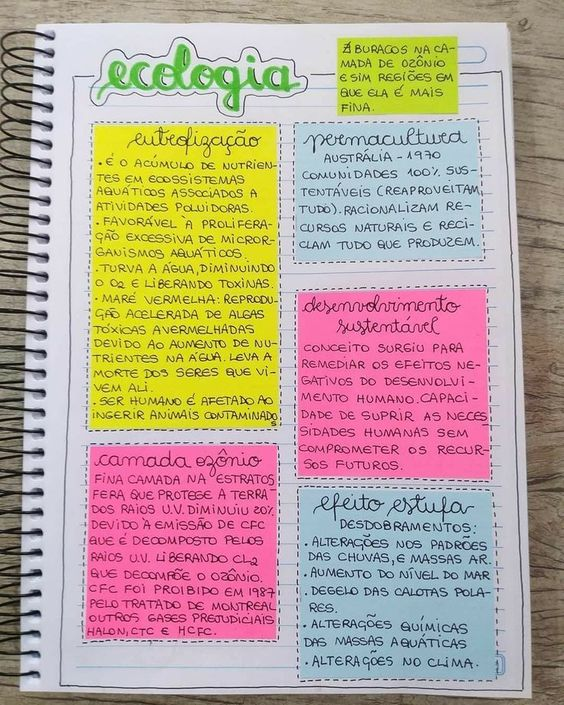page: (59, 25, 509, 696)
